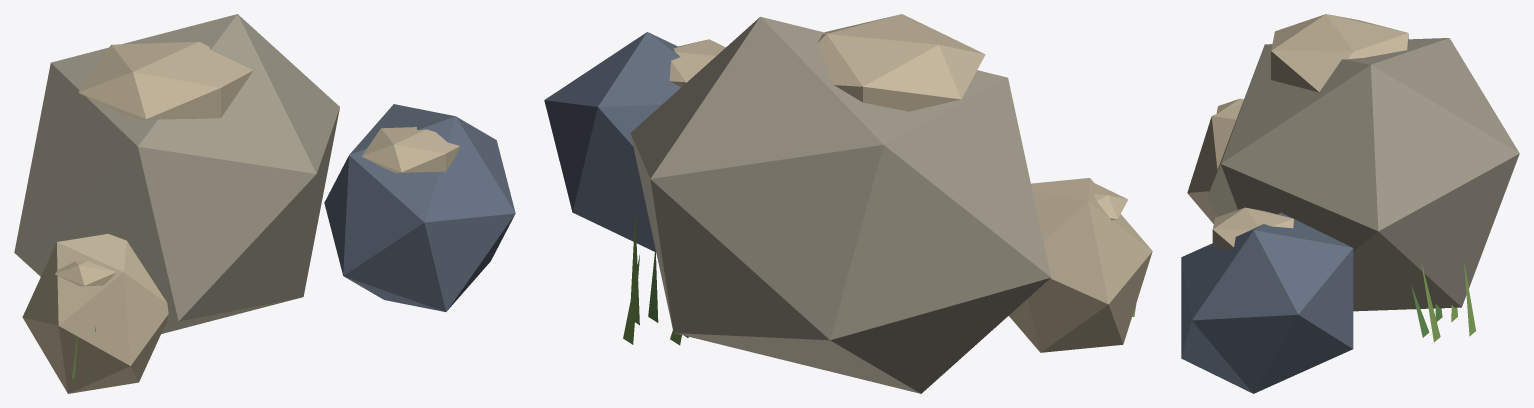
Rendered from rocks.glb.
3 views of the same model, side by side, from view 1: azimuth 30°, elevation 25°; view 2: azimuth 150°, elevation 25°; view 3: azimuth 270°, elevation 25° (orthographic). The views are drawn at different scales.
Parts seen in each view (by area): view 1: 0_stone, 0_stoneLight, 0_slate; view 2: 0_stone, 0_stoneLight, 0_slate, 0_leafLight; view 3: 0_stone, 0_slate, 0_stoneLight, 0_leafLight, 0_leaf.
Part boxes in pixels (x1=…): 0_stone: x1=14, y1=14, x2=339, y2=333; 0_stoneLight: x1=22, y1=41, x2=459, y2=393; 0_slate: x1=324, y1=104, x2=515, y2=311; 0_stone: x1=630, y1=16, x2=1050, y2=393; 0_stoneLight: x1=669, y1=14, x2=1152, y2=352; 0_slate: x1=544, y1=32, x2=680, y2=252; 0_leafLight: x1=623, y1=213, x2=1136, y2=345; 0_stone: x1=1207, y1=38, x2=1519, y2=311; 0_slate: x1=1181, y1=212, x2=1353, y2=393; 0_stoneLight: x1=1187, y1=14, x2=1408, y2=249; 0_leafLight: x1=1421, y1=261, x2=1475, y2=342; 0_leaf: x1=1411, y1=285, x2=1442, y2=337.
Bounding box in the file's own units: 2.48 × 1.46 × 1.59.
